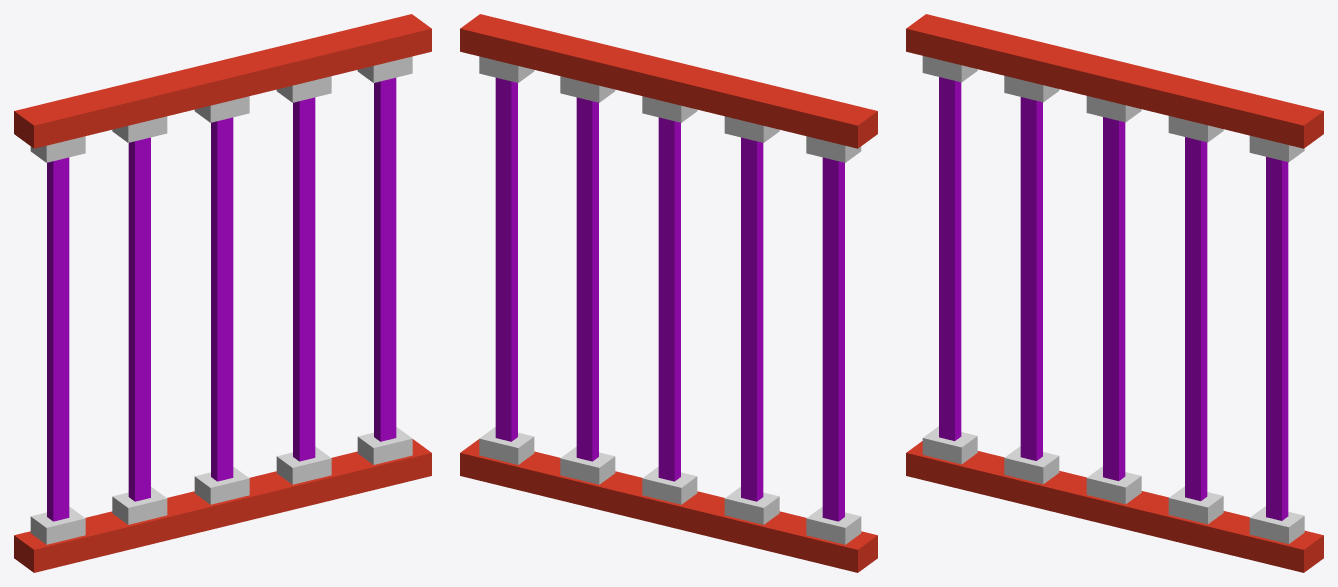
3 views of the same model, side by side, from view 1: azimuth 30°, elevation 25°; view 2: azimuth 150°, elevation 25°; view 3: azimuth 330°, elevation 25° (orthographic).
Parts seen in each view (by area): view 1: pCube57; view 2: pCube57; view 3: pCube57.
Part boxes in pixels (left/top/right/bottom): pCube57: left=14, top=14, right=431, bottom=572; pCube57: left=460, top=14, right=877, bottom=572; pCube57: left=906, top=14, right=1323, bottom=572.
Bounding box in the file's own units: 218 × 234 × 18.97.
